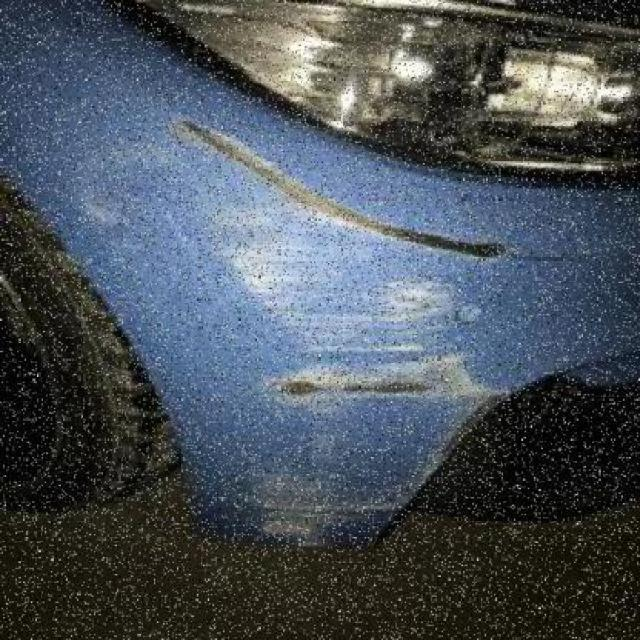front-bumper-dent: (20, 85, 598, 602)
